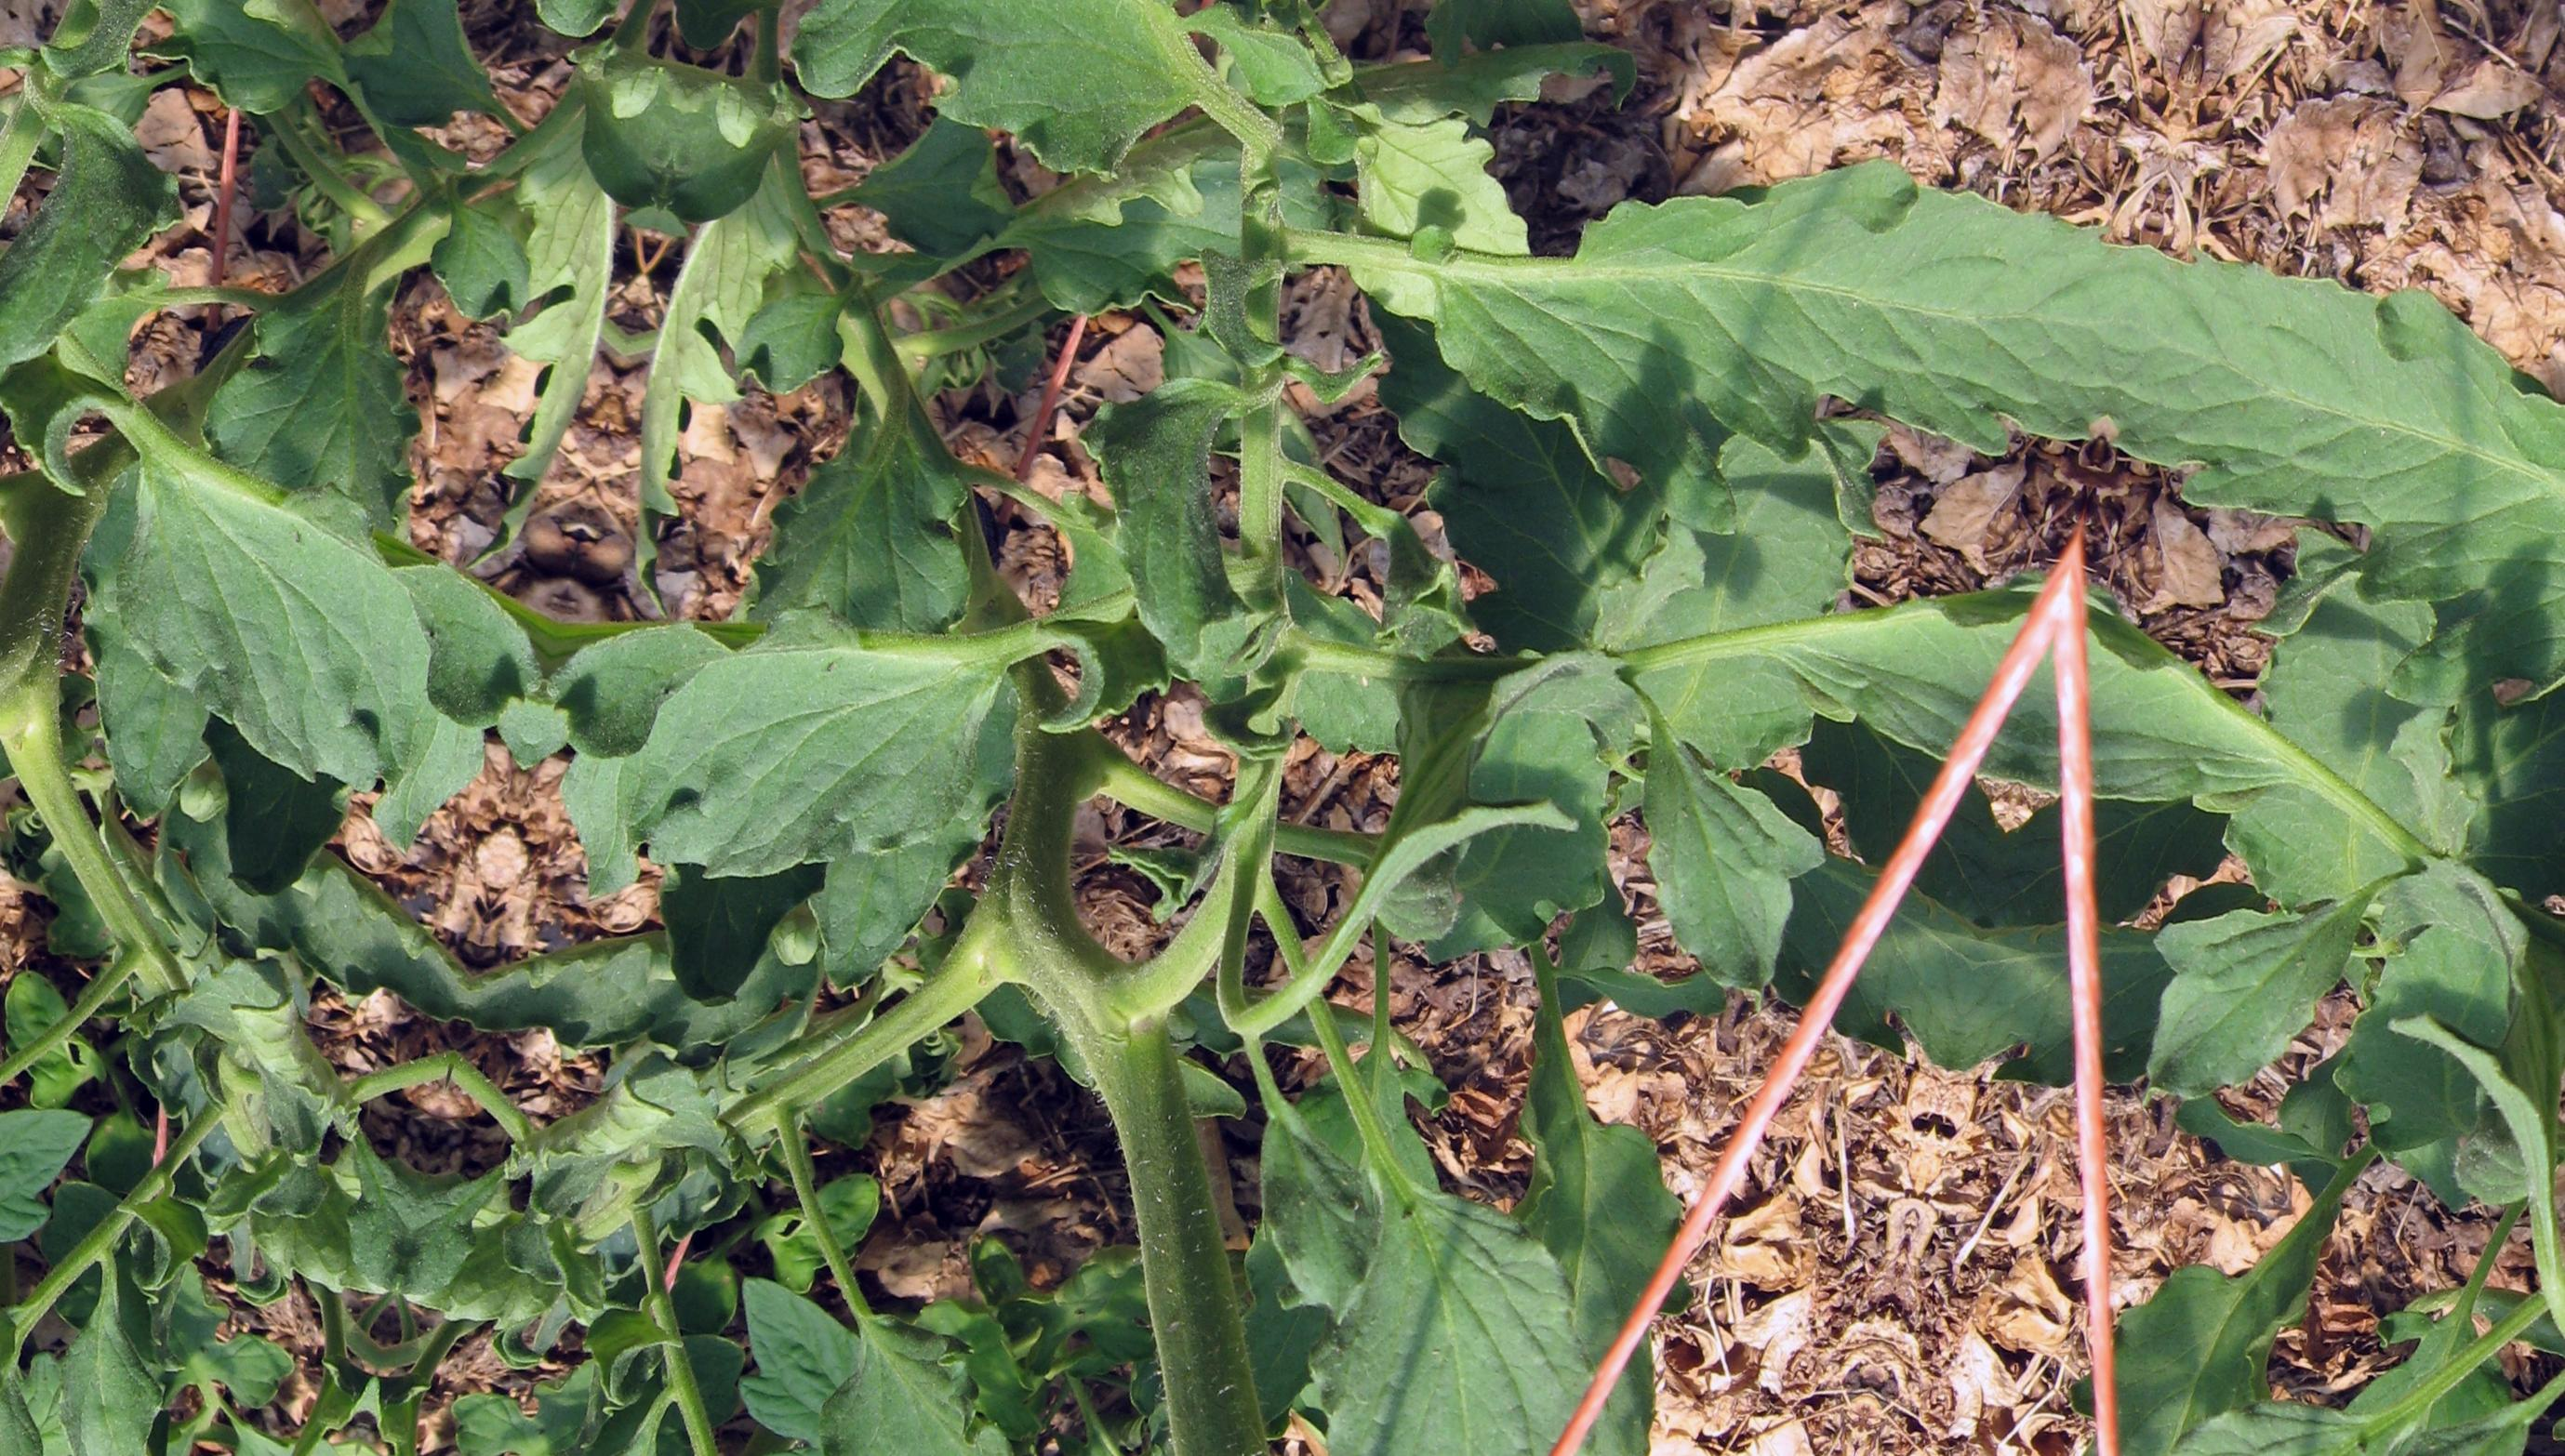Tomato leaf: (1386, 49, 2146, 611), (1487, 477, 2051, 1011), (1140, 963, 1704, 1456), (618, 512, 1080, 903), (696, 0, 1422, 197), (786, 1336, 1191, 1456), (1365, 0, 1645, 113)
